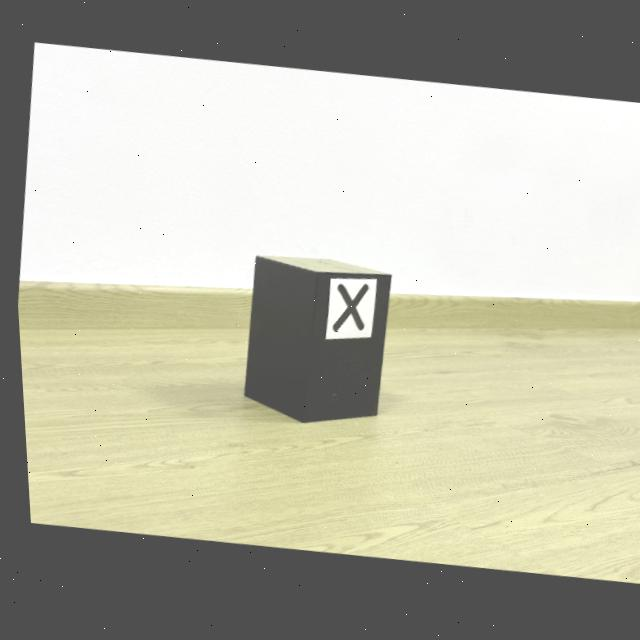X: (329, 285, 365, 333)
